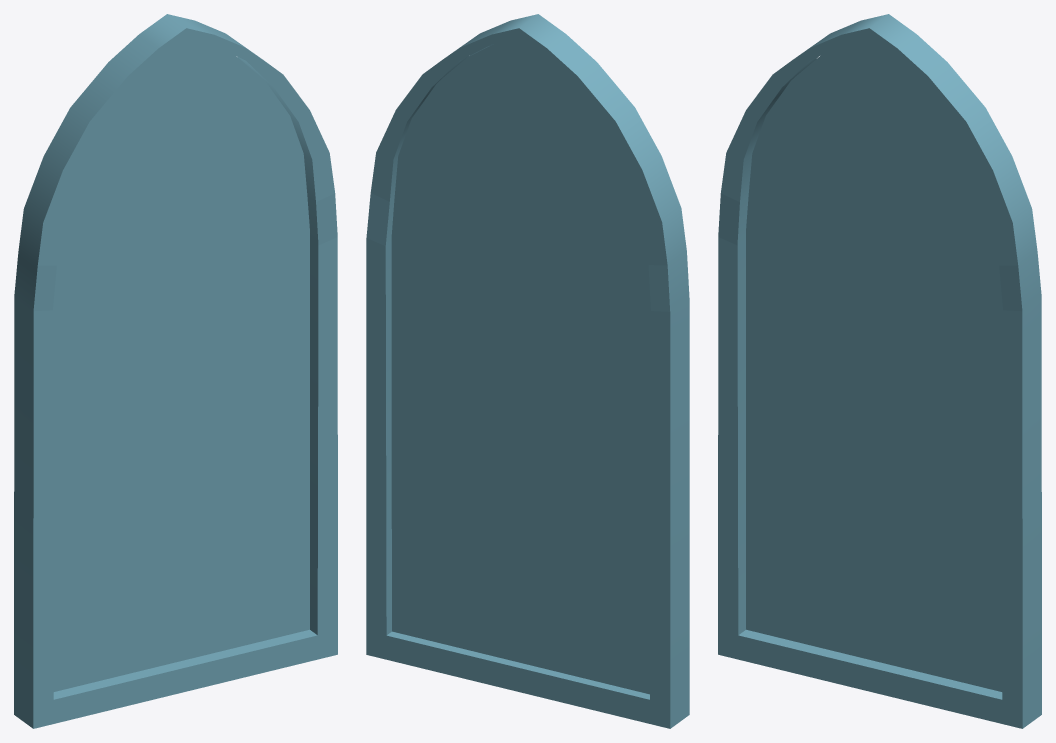
File: Cathedral_door2.FBX
3 views of the same model, side by side, from view 1: azimuth 30°, elevation 25°; view 2: azimuth 150°, elevation 25°; view 3: azimuth 330°, elevation 25° (orthographic).
Parts seen in each view (by area): view 1: Door2_small1, Door2frame_small1; view 2: Door2_small1, Door2frame_small1; view 3: Door2_small1, Door2frame_small1.
Boxes of the visible parts, x1,y1,x2,y2 form: Door2_small1: (53, 37, 309, 691); Door2frame_small1: (14, 14, 337, 728); Door2_small1: (391, 37, 650, 694); Door2frame_small1: (366, 14, 689, 728); Door2_small1: (746, 37, 1002, 691); Door2frame_small1: (718, 14, 1041, 728).
Size of the model in its own units: 288 by 600 by 32.99.
